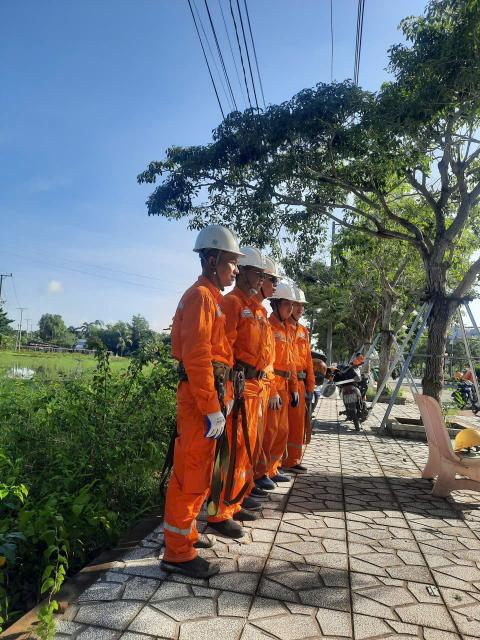gloves: (200, 406, 230, 440), (288, 387, 303, 409), (265, 392, 283, 410)
harness: (183, 358, 234, 385), (228, 358, 262, 382), (272, 367, 294, 381), (292, 368, 310, 382)
helmet: (191, 224, 245, 261), (230, 238, 263, 272), (269, 281, 298, 305), (260, 253, 282, 281), (291, 281, 311, 307)
shoes: (150, 545, 225, 584), (207, 511, 251, 541), (188, 525, 220, 549), (265, 466, 292, 486), (234, 492, 262, 511), (229, 505, 260, 522), (276, 460, 310, 475), (244, 481, 270, 499), (251, 473, 276, 491)
